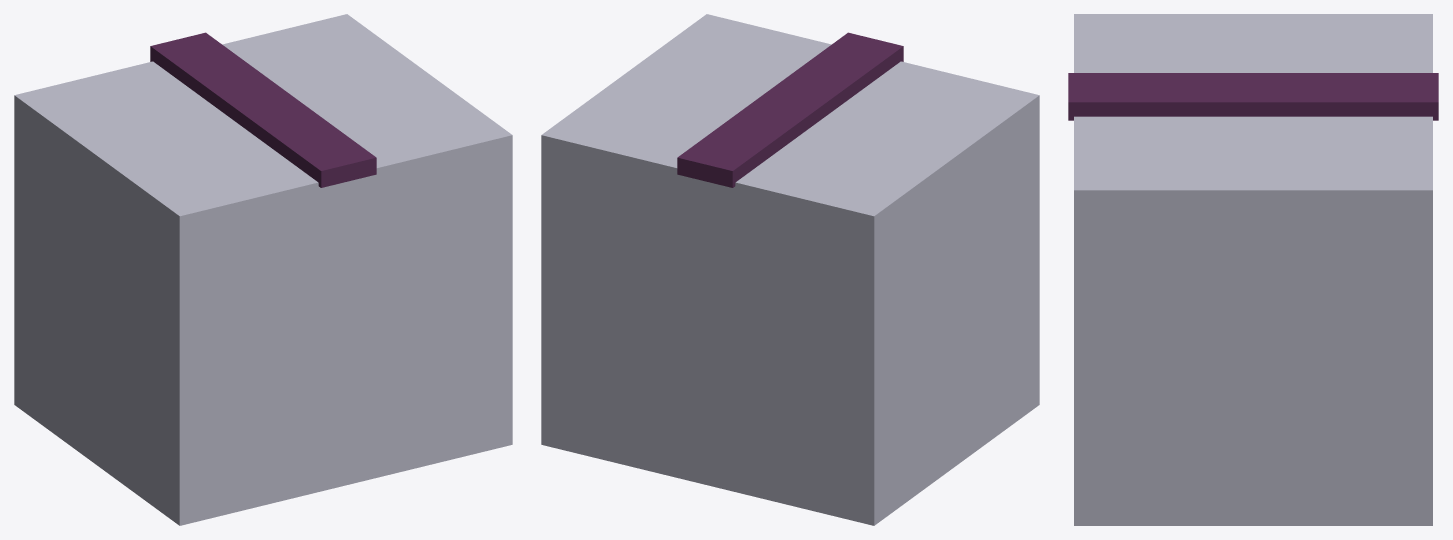
File: cardboard-box.obj
3 renders of one model, left to right at view 1: azimuth 30°, elevation 25°; view 2: azimuth 150°, elevation 25°; view 3: azimuth 270°, elevation 25°, orthographic. The views are drawn at different scales.
Visible parts, largest first — view 1: cardboard-box-1, tape-strip-1; view 2: cardboard-box-1, tape-strip-1; view 3: cardboard-box-1, tape-strip-1.
Part boxes in pixels (bbox=[...]): cardboard-box-1: bbox=[14, 14, 512, 525]; tape-strip-1: bbox=[150, 32, 376, 187]; cardboard-box-1: bbox=[541, 14, 1039, 525]; tape-strip-1: bbox=[677, 32, 903, 187]; cardboard-box-1: bbox=[1074, 14, 1432, 525]; tape-strip-1: bbox=[1068, 73, 1438, 120].
Size of the model in its own units: 0.72 by 0.6675 by 0.64.
